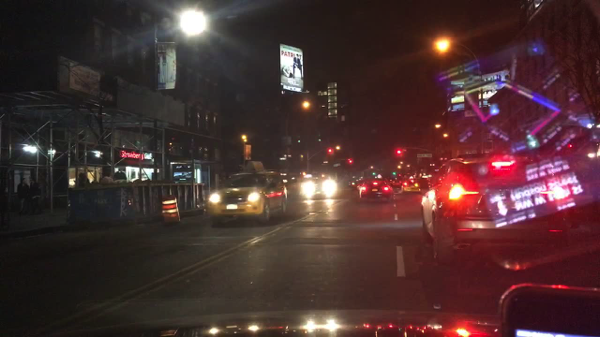car: (418, 153, 523, 264), (206, 161, 288, 227), (296, 173, 339, 201), (359, 178, 392, 199), (402, 180, 420, 194), (389, 176, 401, 186), (349, 178, 358, 188)
person: (16, 176, 32, 211), (27, 176, 43, 210), (76, 172, 92, 188), (99, 171, 113, 184), (116, 168, 126, 180)
traffic light: (396, 148, 400, 157), (329, 148, 332, 156)
traffic sign: (416, 154, 433, 159)
